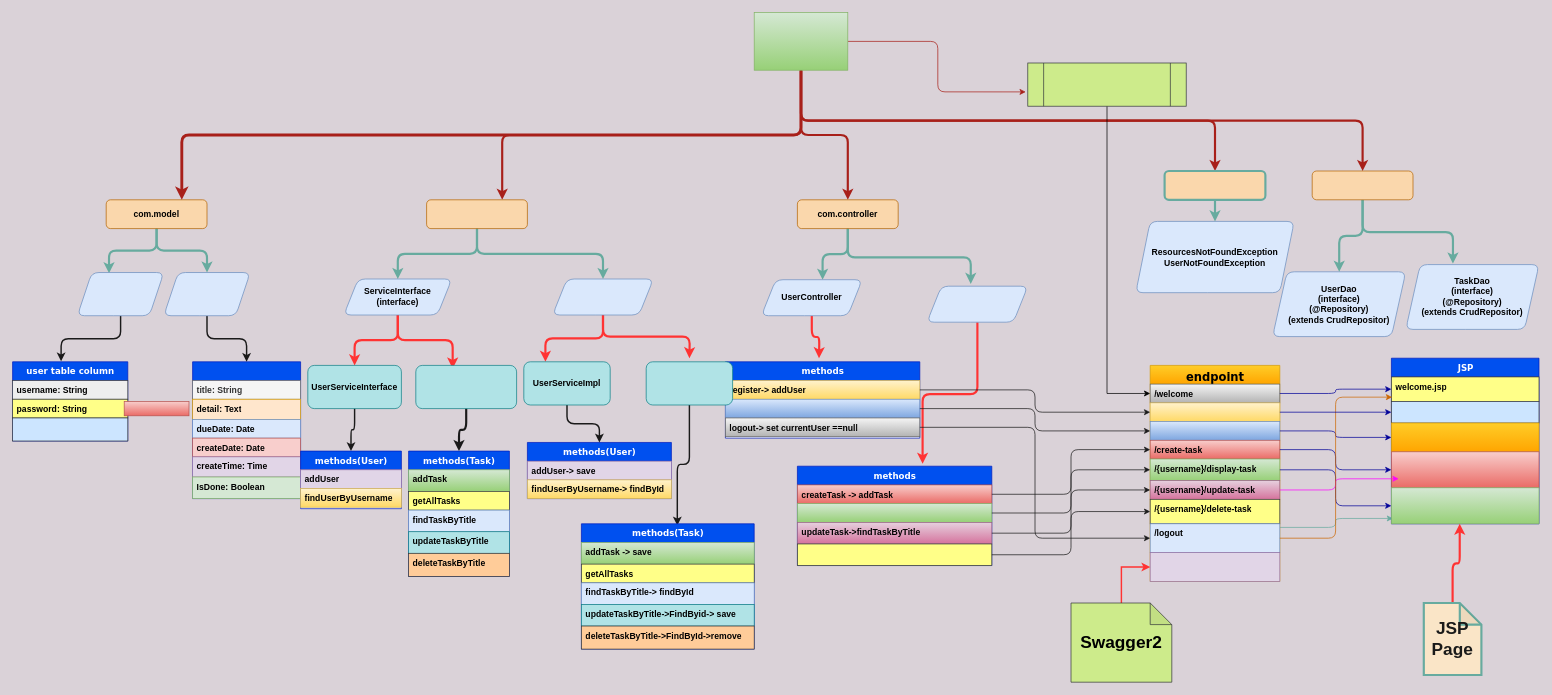
Image size: 1552x695. Some labels were removed from this diagram. The shapes that lost their labels are listed below. From the top down, each one's box as (x1, y1, x2, y2) in pixels, then its label:
(753, 12, 848, 70): com (root package)
(1027, 62, 1186, 106): run application @SpringBootApplication
(1163, 170, 1266, 201): com.exception
(1311, 170, 1413, 200): com.dao
(426, 199, 527, 229): com.service
(77, 272, 164, 316): User (pojo class)
(163, 272, 250, 316): Task (pojo class)
(552, 278, 653, 315): ServiceImpl (class)
(926, 285, 1028, 322): TaskController
(415, 365, 517, 409): TaskServiceInterface
(645, 361, 733, 405): TaskServiceImpl
(123, 401, 189, 416): one to many
(725, 399, 920, 418): login-> findUser-> set currentUser == true
(1149, 402, 1280, 422): /registration
(1391, 401, 1539, 423): registration-form.jsp
(12, 417, 128, 441): email: String
(192, 361, 301, 499): task table column
(1149, 421, 1280, 440): /login
(1391, 422, 1539, 452): login-form.jsp
(1391, 451, 1539, 488): task-form.jsp
(797, 503, 992, 522): displayTask->getAllTasks
(1391, 487, 1539, 524): task-display.jsp
(797, 543, 992, 566): deleteTask-> deleteTaskByTitle
(1149, 552, 1280, 581): /api-docs
